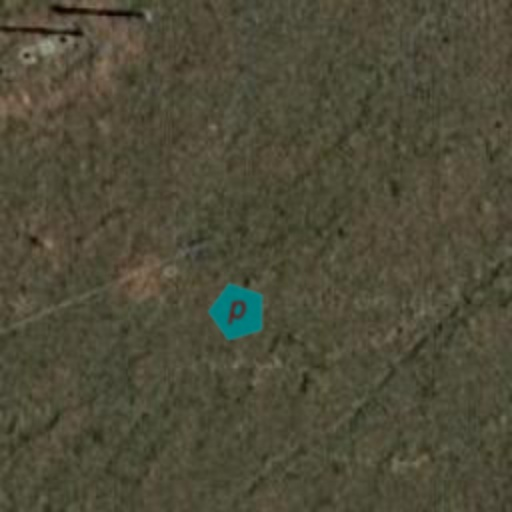pentagon: (206, 280, 270, 344)
